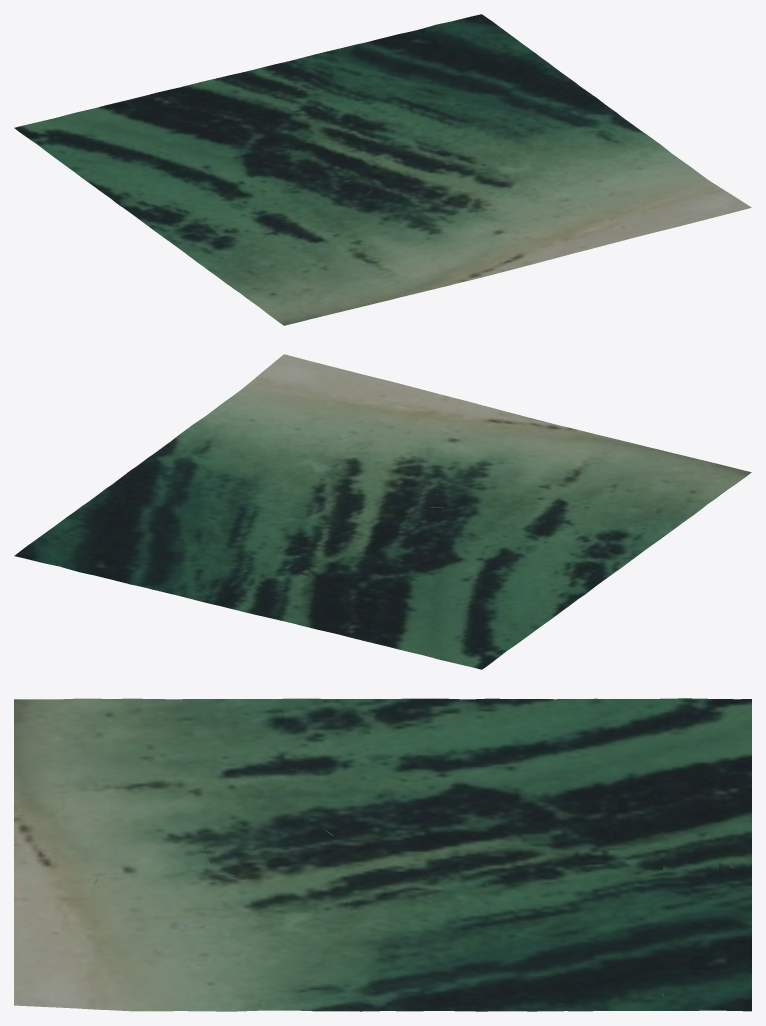
The picture shows the model from 3 angles, top to bottom: view 1: azimuth 30°, elevation 25°; view 2: azimuth 150°, elevation 25°; view 3: azimuth 270°, elevation 25°; orthographic projection. The views are drawn at different scales.
Size of the model in its own units: 104 by 0.9916 by 104.
Materials: 3 (3 with a texture image).
